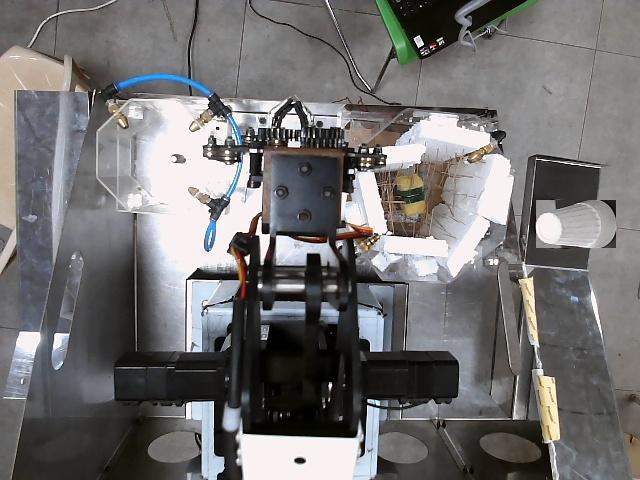cup: (536, 200, 616, 248)
